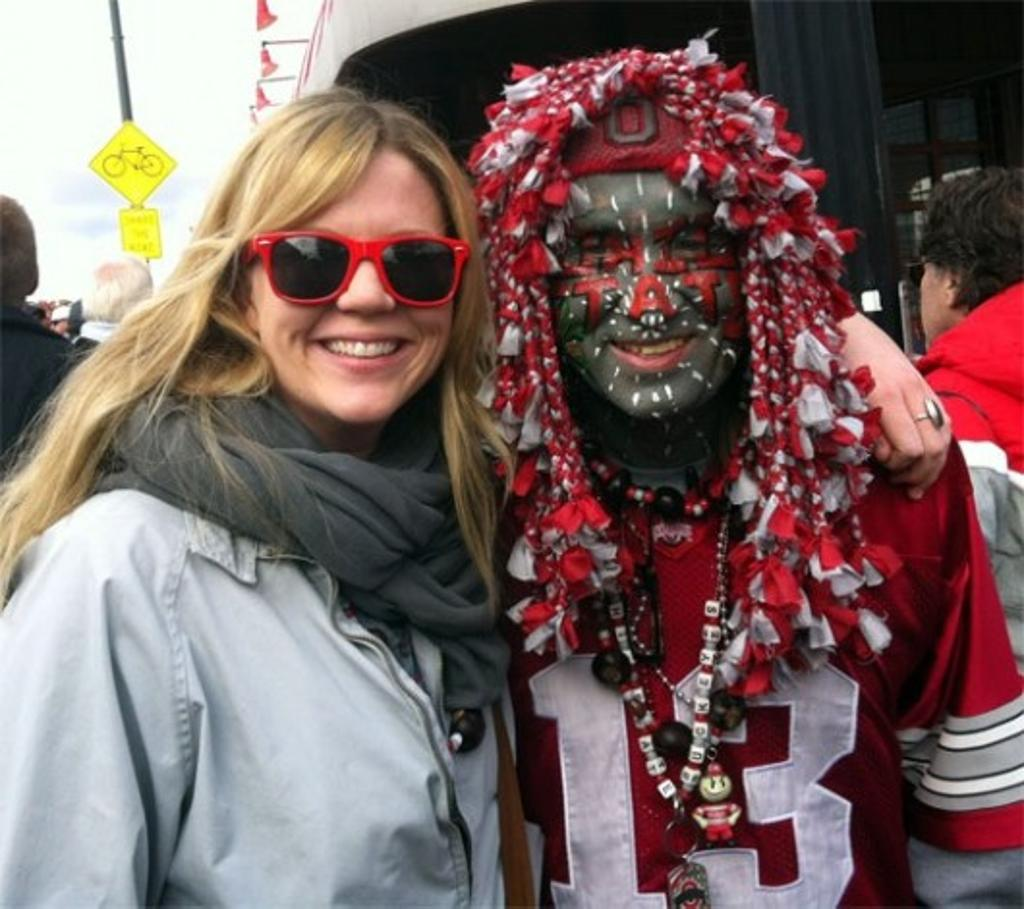face: (554, 166, 760, 420), (270, 190, 464, 420)
